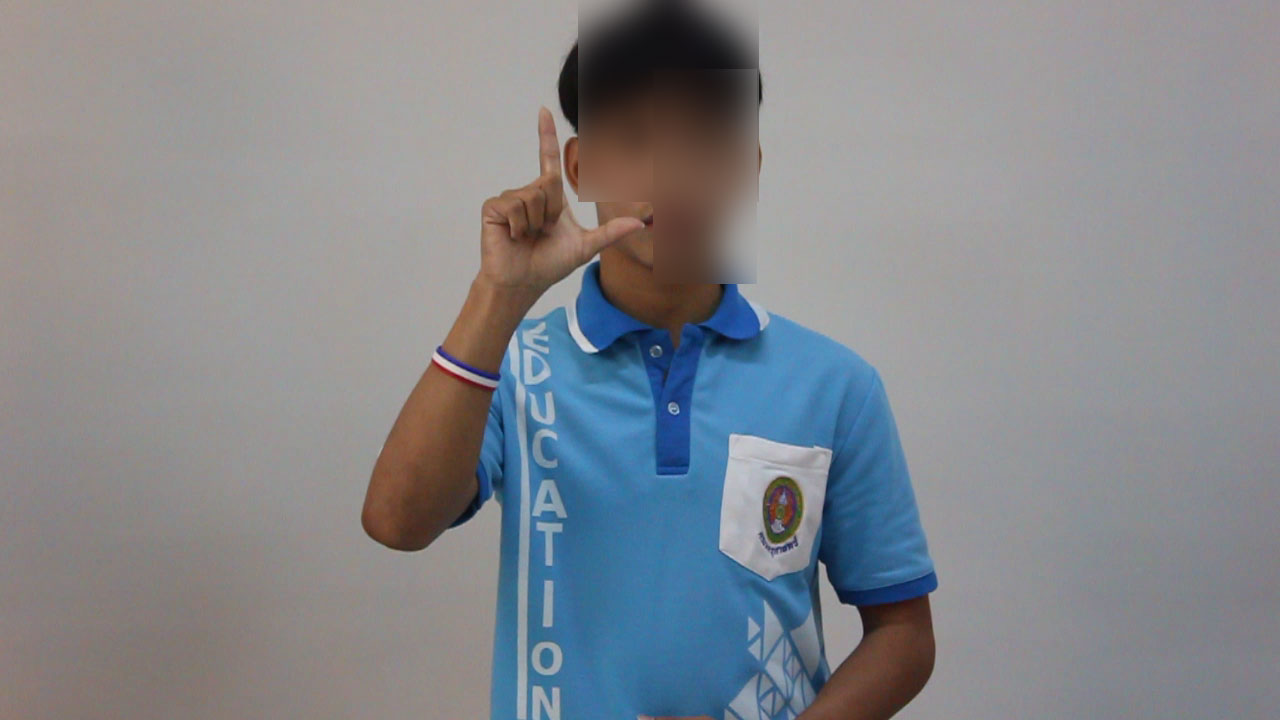lor: (473, 95, 651, 314)
